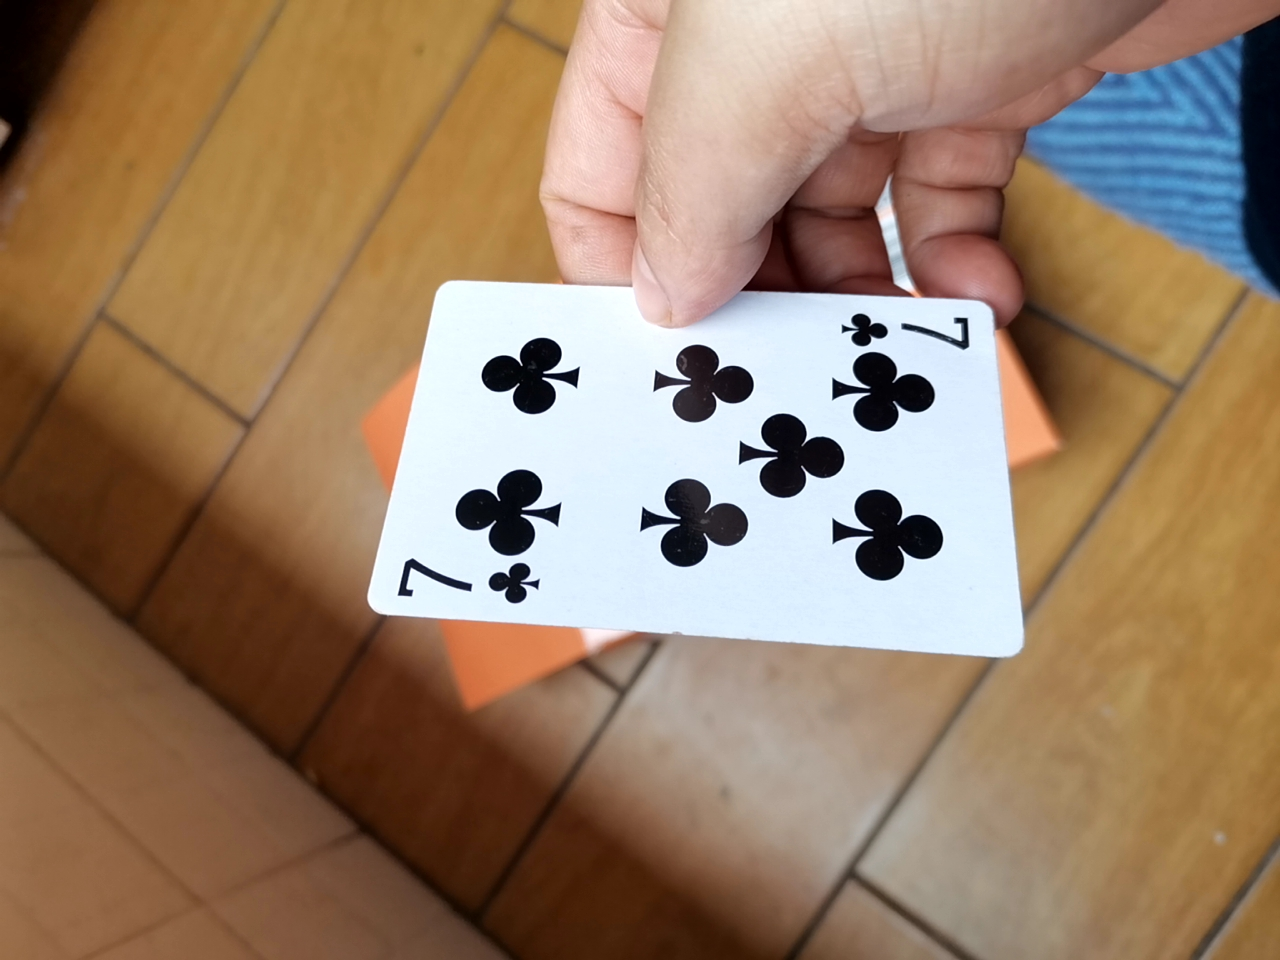mh 7: (339, 274, 1032, 670)
